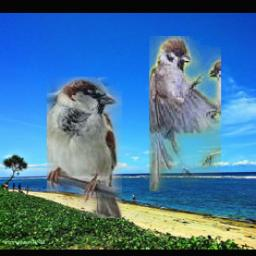Sparrow: (149, 36, 221, 191), (46, 78, 121, 219)
